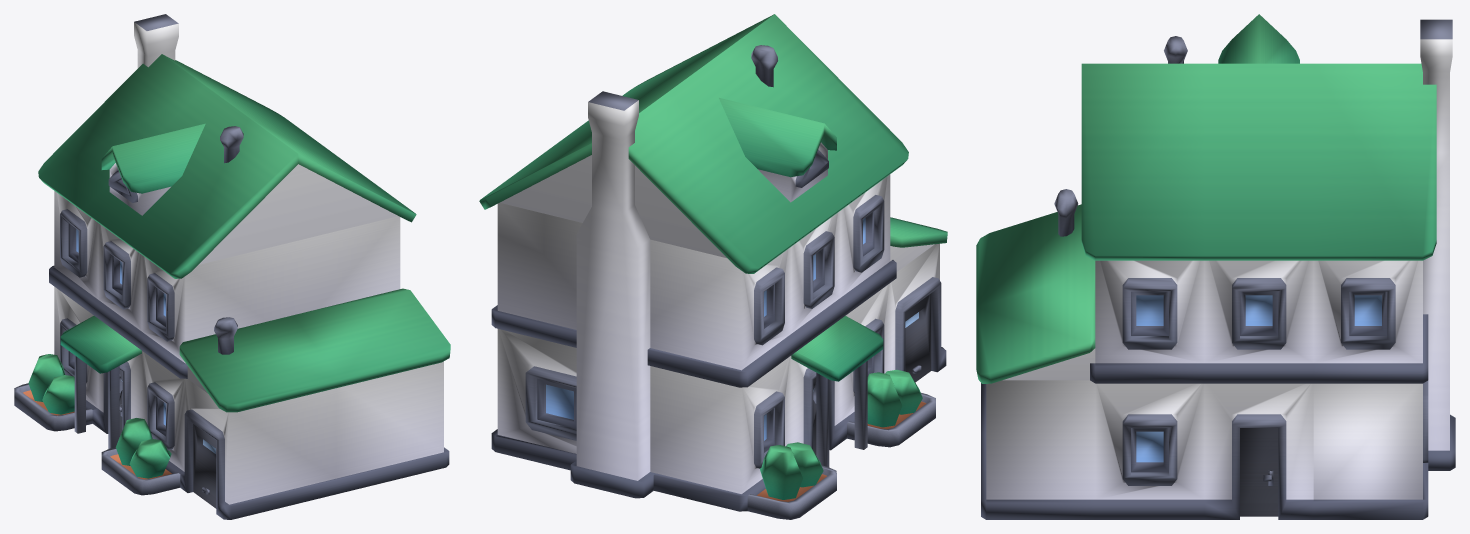
File: n1_building-type-d_lev1.glb
The picture shows the model from 3 angles, left to right: view 1: azimuth 30°, elevation 25°; view 2: azimuth 150°, elevation 25°; view 3: azimuth 270°, elevation 25°; orthographic projection. The views are drawn at different scales.
Visible parts, largest first — view 1: n1_building-type-d_lev1; view 2: n1_building-type-d_lev1; view 3: n1_building-type-d_lev1.
Boxes of the visible parts, x1=… form: n1_building-type-d_lev1: x1=14, y1=14, x2=450, y2=519; n1_building-type-d_lev1: x1=479, y1=14, x2=947, y2=519; n1_building-type-d_lev1: x1=976, y1=14, x2=1455, y2=519.
Bounding box in the file's own units: 7.97 × 9.32 × 9.59.
Materials: 1 (1 with a texture image).
